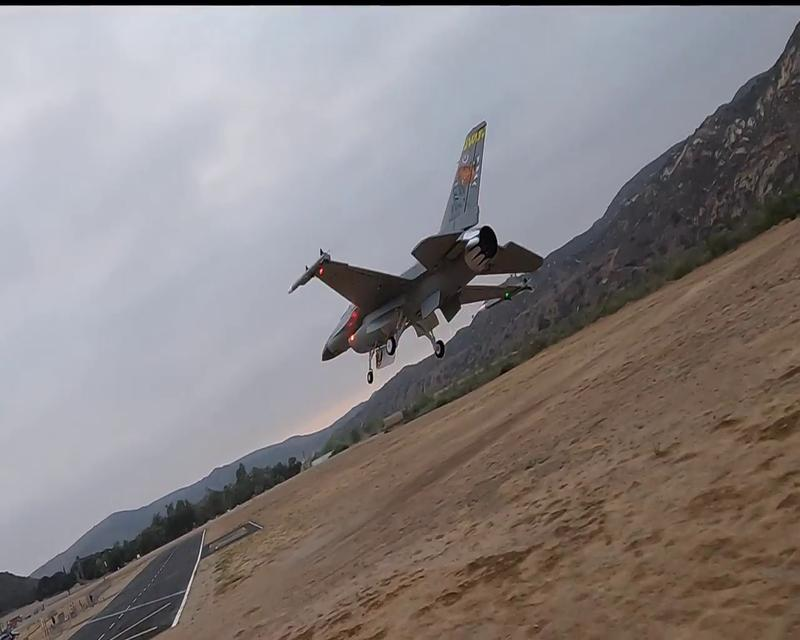UAV: (286, 118, 544, 385)
